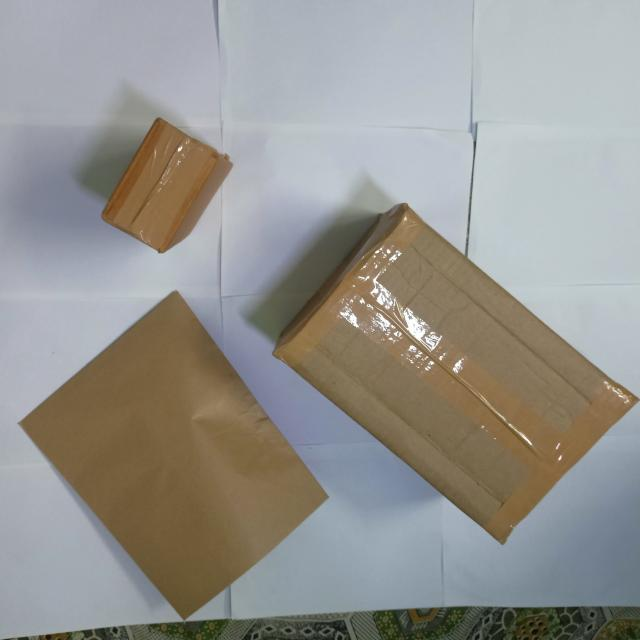box: (273, 205, 640, 547), (20, 294, 329, 622), (101, 120, 234, 256)
